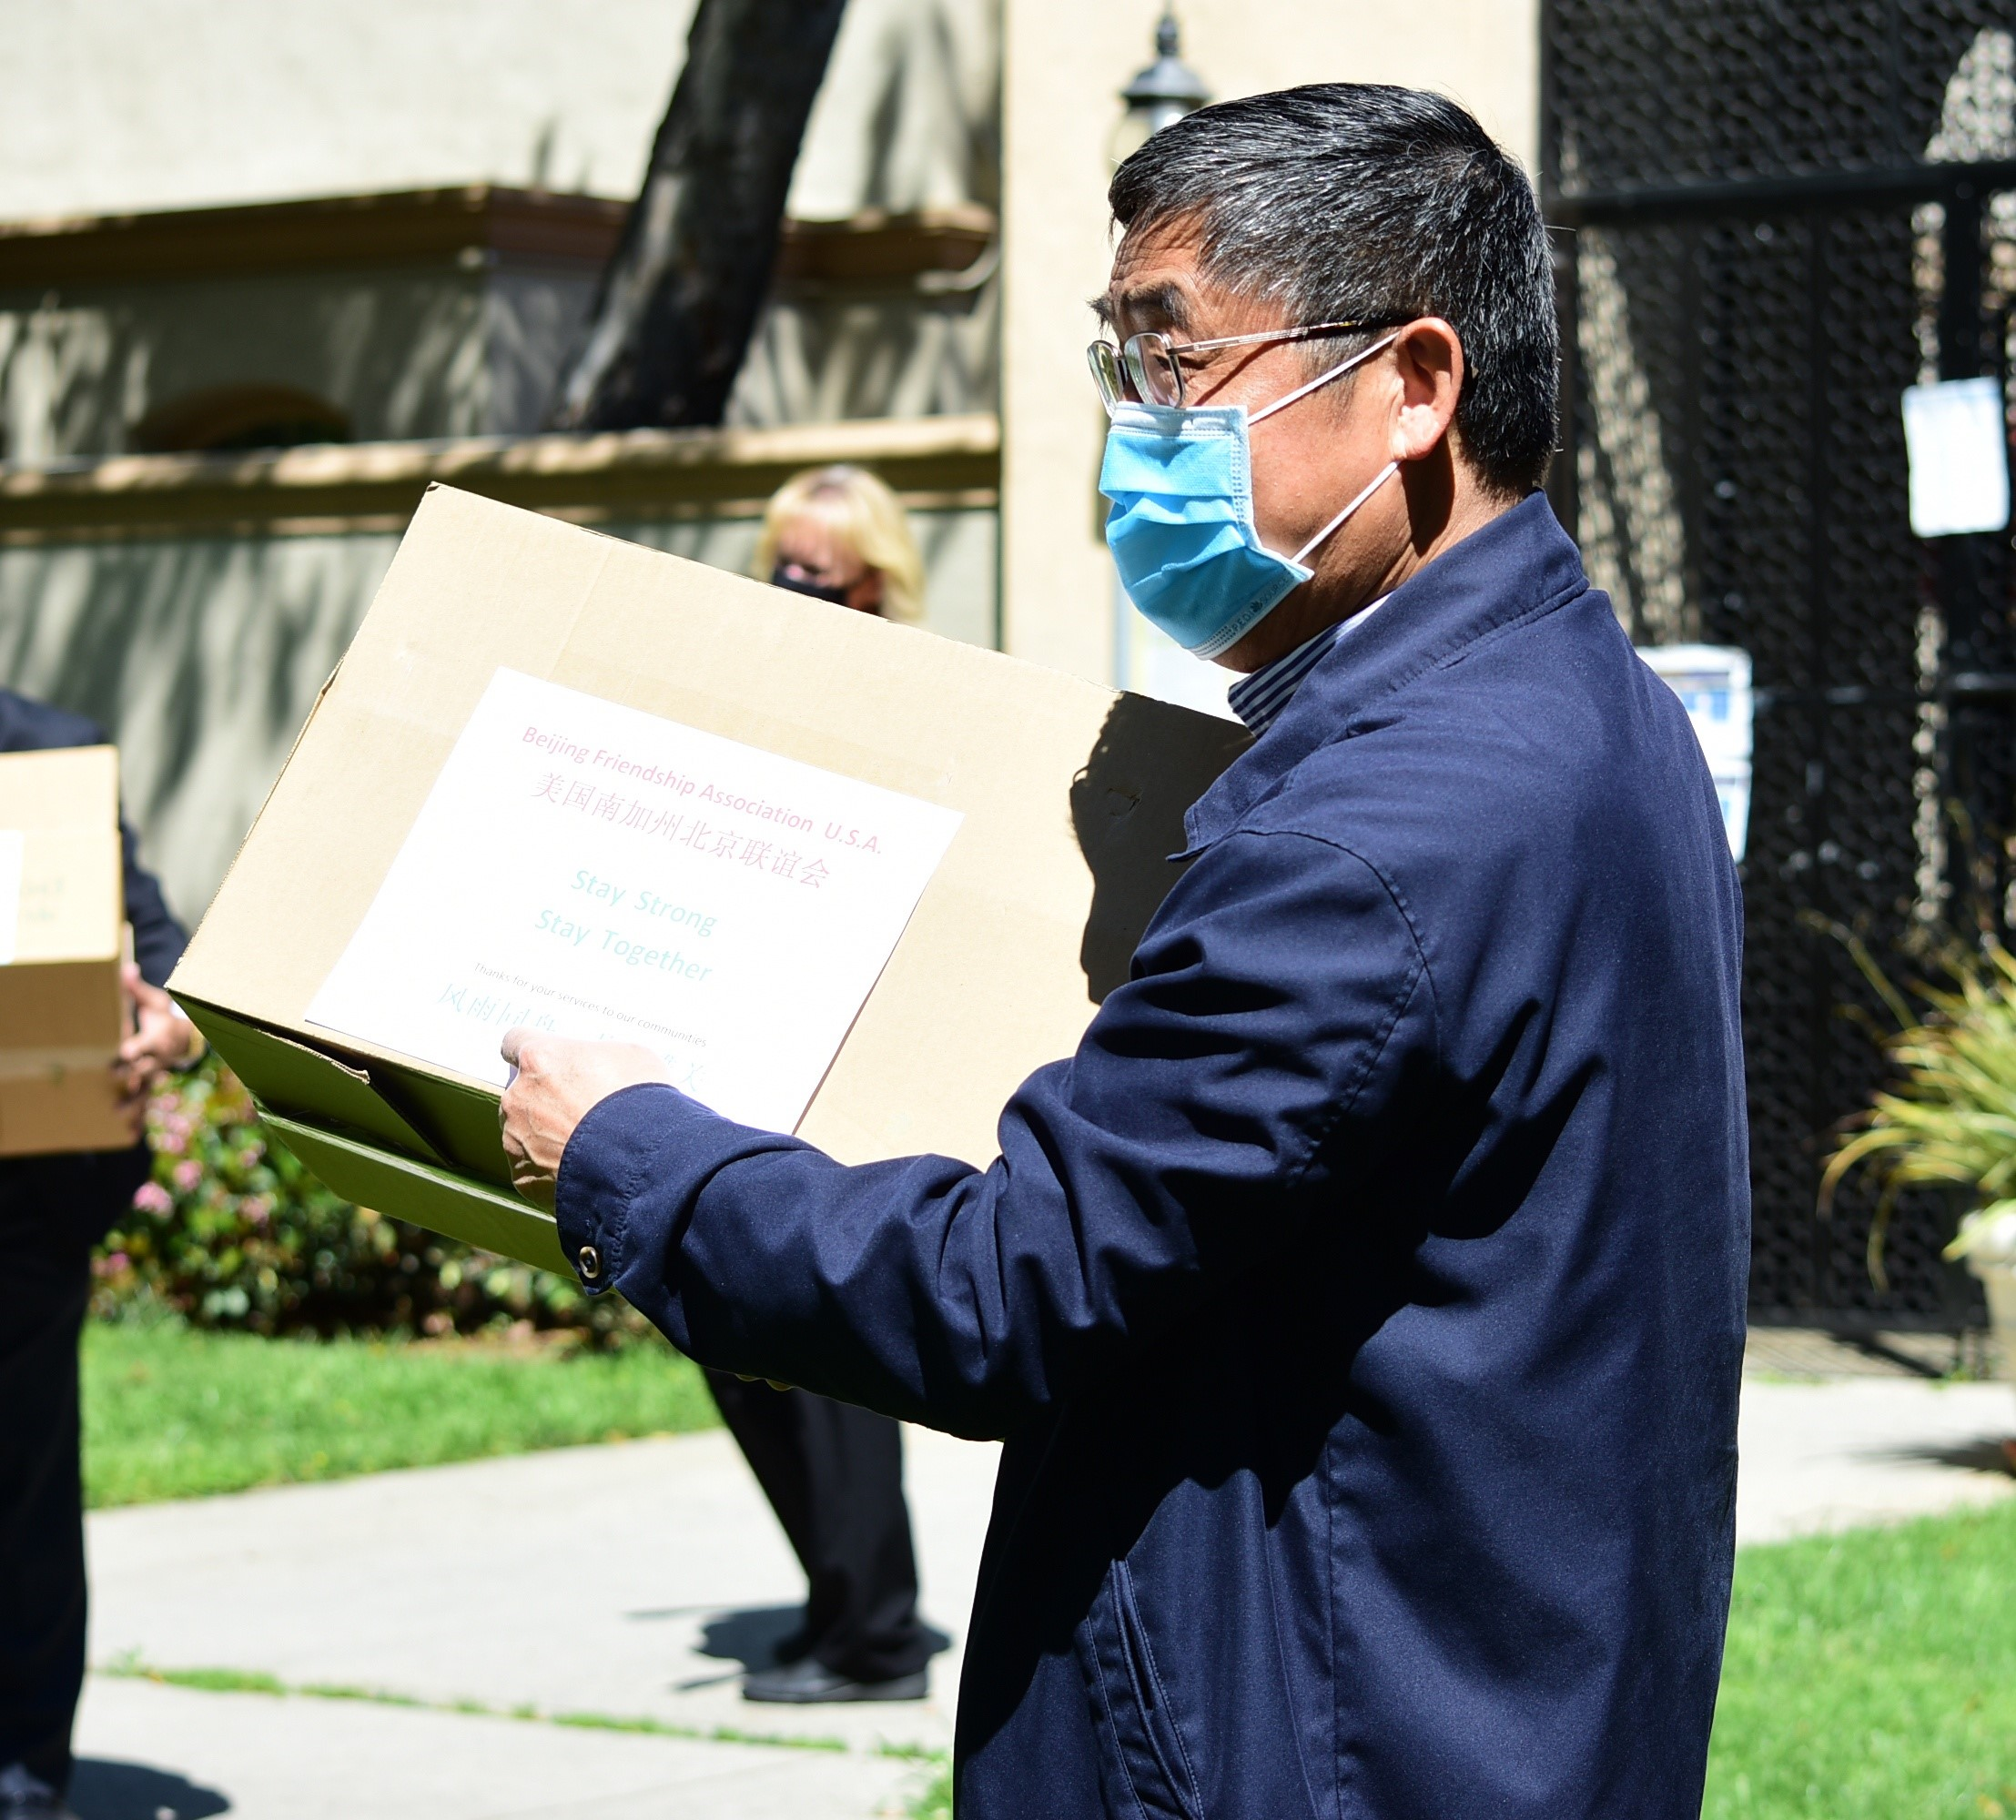face_with_mask: (1079, 83, 1575, 681), (746, 458, 927, 630)
